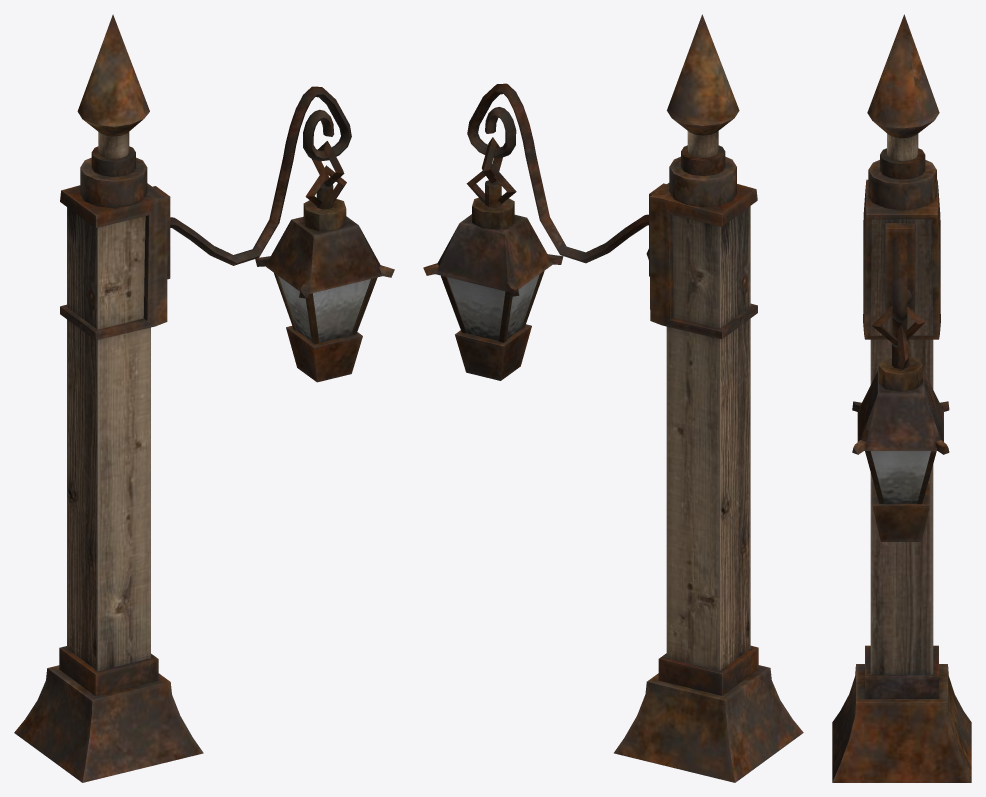
Rendered from Lamp_Street_4.glb.
3 views of the same model, side by side, from view 1: azimuth 30°, elevation 25°; view 2: azimuth 150°, elevation 25°; view 3: azimuth 270°, elevation 25° (orthographic).
Visible parts, largest first — view 1: Lamp_Street_4; view 2: Lamp_Street_4; view 3: Lamp_Street_4.
Boxes of the visible parts, x1,y1,x2,y2 form: Lamp_Street_4: (14, 14, 394, 782); Lamp_Street_4: (423, 14, 803, 782); Lamp_Street_4: (832, 14, 971, 782).
Size of the model in its own units: 1.4 by 3 by 0.5122.
Materials: 1 (1 with a texture image).
